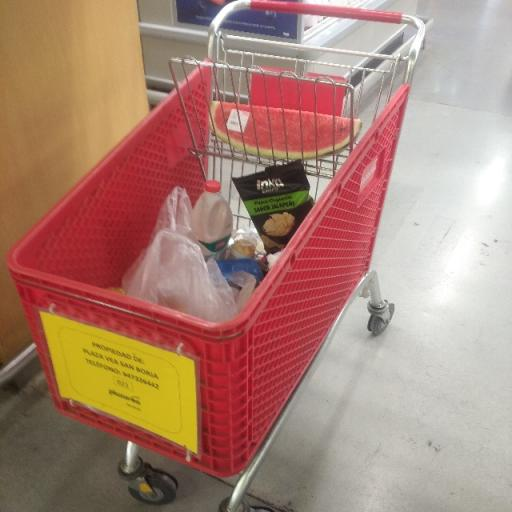shopping_cart: (4, 0, 434, 512)
